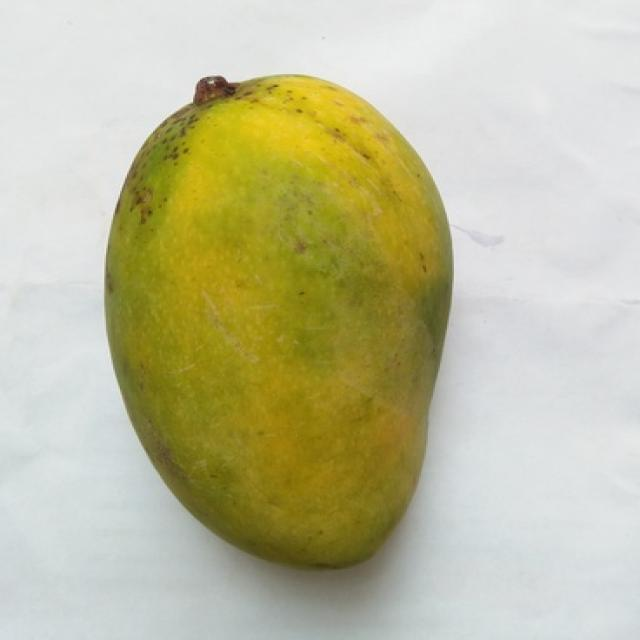Mango: (106, 76, 450, 564)
